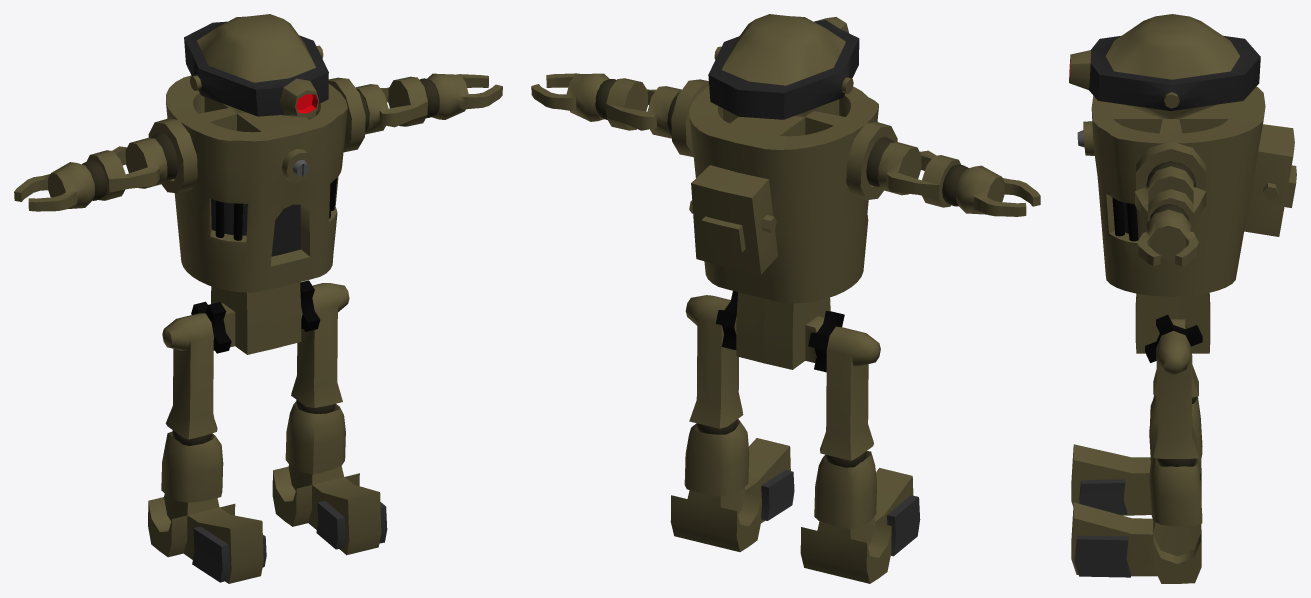
Rendered from brokenbot.fbx.
3 renders of one model, left to right at view 1: azimuth 30°, elevation 25°; view 2: azimuth 150°, elevation 25°; view 3: azimuth 270°, elevation 25°, orthographic. The views are drawn at different scales.
Parts seen in each view (by area): view 1: Cylinder, Cylinder.009, Cylinder.008, Cylinder.006, Cylinder.004, Cylinder.007, Cylinder.002, Cylinder.001, Cylinder.003, Cylinder.005; view 2: Cylinder, Cylinder.009, Cylinder.006, Cylinder.008, Cylinder.010, Cylinder.004, Cylinder.007, Cylinder.002, Cylinder.001, Cylinder.003, Cylinder.005; view 3: Cylinder, Cylinder.009, Cylinder.006, Cylinder.008, Cylinder.007, Cylinder.010, Cylinder.005, Cylinder.001, Sphere, Cylinder.004.
Part boxes in pixels (x1,y1,x2,y2): Cylinder: (148, 75, 365, 354); Cylinder.009: (184, 14, 328, 117); Cylinder.008: (148, 431, 266, 583); Cylinder.006: (272, 401, 387, 555); Cylinder.004: (162, 313, 217, 439); Cylinder.007: (291, 283, 349, 407); Cylinder.002: (86, 137, 167, 200); Cylinder.001: (355, 76, 427, 134); Cylinder.003: (14, 162, 94, 211); Cylinder.005: (427, 73, 502, 119); Cylinder: (671, 79, 897, 372); Cylinder.009: (708, 14, 859, 119); Cylinder.006: (670, 419, 794, 551); Cylinder.008: (800, 451, 920, 583); Cylinder.010: (689, 165, 778, 274); Cylinder.004: (820, 326, 880, 460); Cylinder.007: (685, 295, 743, 428); Cylinder.002: (878, 142, 960, 207); Cylinder.001: (606, 78, 681, 138); Cylinder.003: (956, 165, 1040, 216); Cylinder.005: (531, 73, 609, 121); Cylinder: (1077, 86, 1265, 362); Cylinder.009: (1069, 14, 1260, 118); Cylinder.006: (1071, 457, 1202, 583); Cylinder.008: (1071, 395, 1202, 515); Cylinder.007: (1153, 331, 1198, 458); Cylinder.010: (1244, 124, 1296, 236); Cylinder.005: (1137, 209, 1198, 266); Cylinder.001: (1135, 166, 1206, 228); Sphere: (1146, 161, 1195, 187); Cylinder.004: (1153, 353, 1198, 397).
Size of the model in its own units: 284 by 289 by 117.
